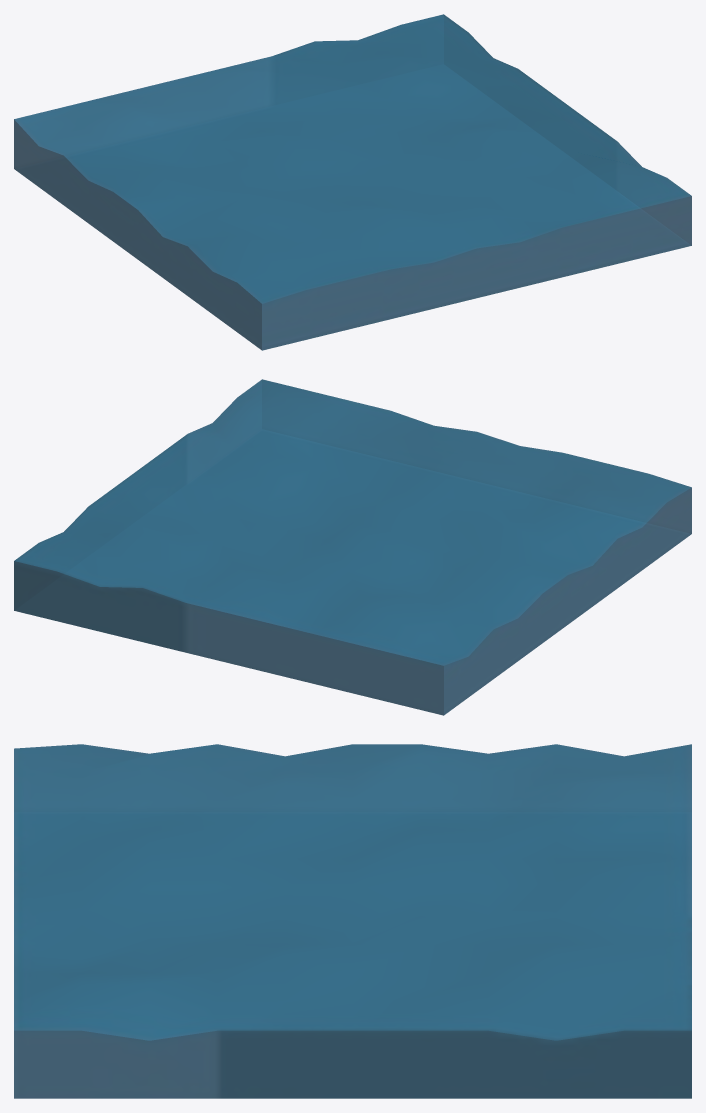
File: seaMin.glb
3 renders of one model, top to bottom at view 1: azimuth 30°, elevation 25°; view 2: azimuth 150°, elevation 25°; view 3: azimuth 270°, elevation 25°, orthographic. The views are drawn at different scales.
Visible parts, largest first — view 1: defaultMaterial; view 2: defaultMaterial; view 3: defaultMaterial.
Part boxes in pixels (x1,y1,x2,y2): defaultMaterial: [14, 14, 691, 350]; defaultMaterial: [14, 379, 691, 715]; defaultMaterial: [14, 744, 691, 1098].
Size of the model in its own units: 2 by 0.2782 by 2.
1 material, 1 textured.
